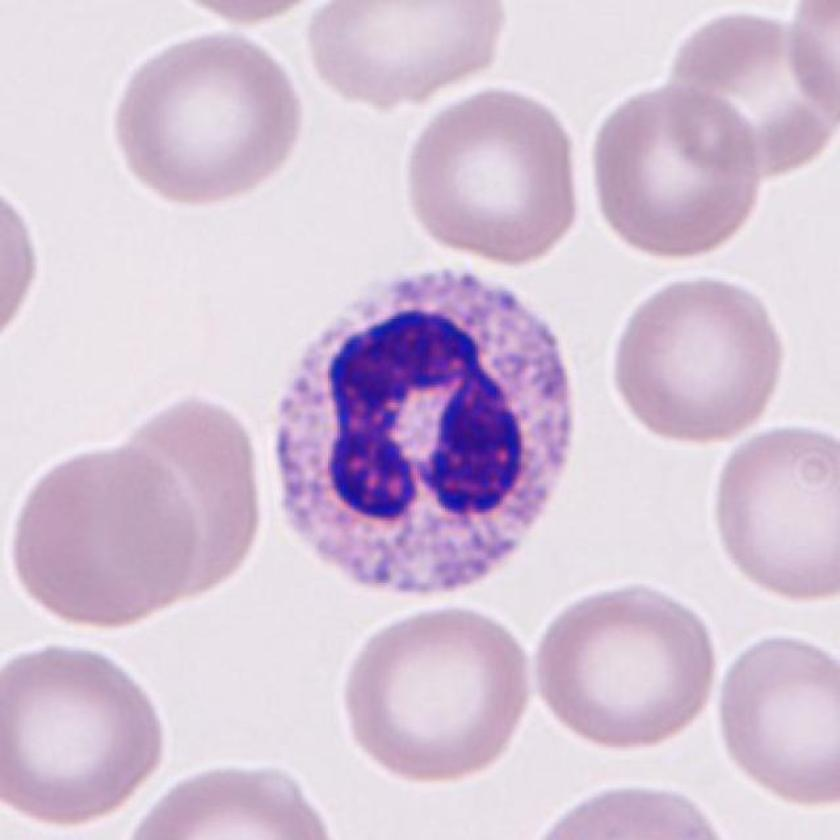neutrophil: (274, 268, 575, 592)
